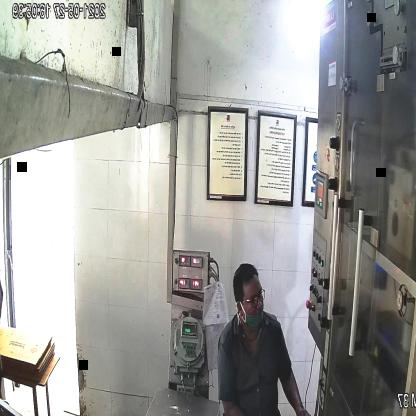goggles: (234, 286, 268, 314)
